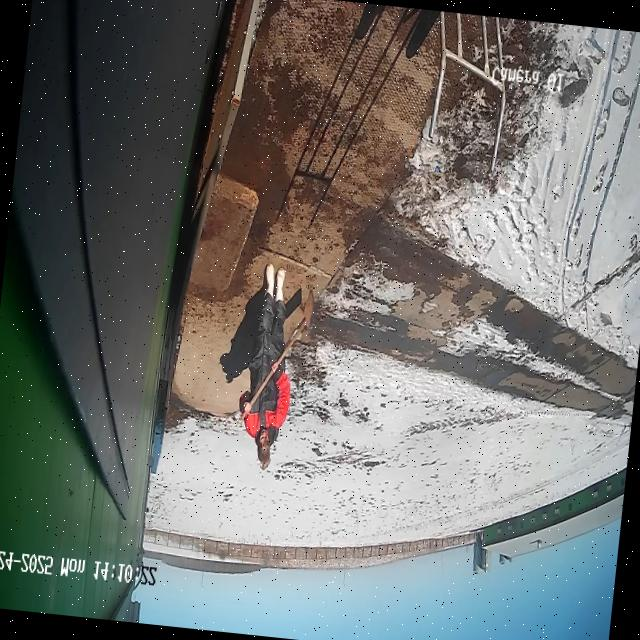Red uniform: (230, 259, 305, 472)
